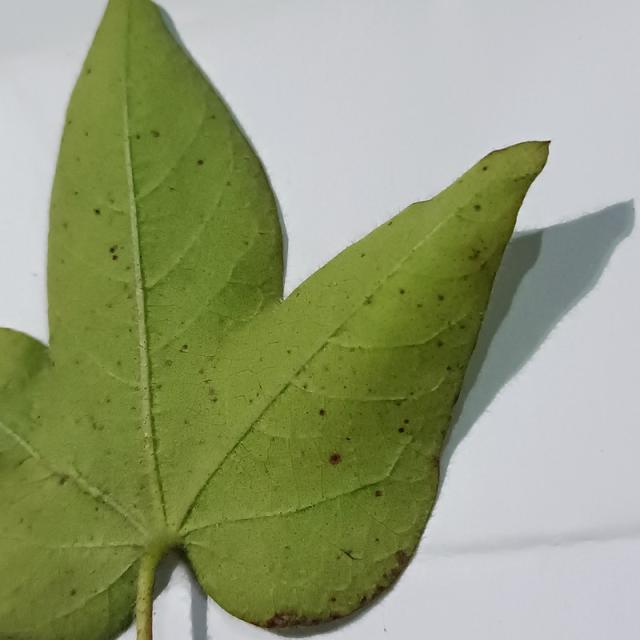Bacterial_Blight: (321, 444, 351, 471), (265, 613, 295, 628), (106, 242, 122, 267), (87, 416, 104, 432), (395, 550, 408, 565), (468, 248, 482, 261), (512, 175, 531, 183), (207, 386, 217, 401), (265, 619, 278, 630), (59, 474, 69, 486), (341, 549, 354, 558), (362, 295, 373, 305), (329, 613, 341, 622), (432, 456, 440, 469), (393, 398, 404, 406), (109, 245, 118, 254), (180, 344, 189, 353), (478, 260, 487, 269), (150, 130, 160, 138), (164, 359, 173, 367), (437, 340, 445, 348), (437, 294, 445, 301), (473, 204, 481, 211), (375, 490, 383, 497), (398, 288, 405, 295), (94, 208, 101, 215), (70, 589, 77, 596), (397, 427, 405, 433), (403, 418, 410, 424), (416, 303, 423, 309), (319, 409, 325, 416), (226, 180, 232, 187), (197, 159, 204, 165), (242, 240, 249, 246), (62, 222, 68, 229), (126, 293, 133, 299), (209, 114, 216, 120), (169, 186, 176, 192), (184, 418, 190, 425), (139, 596, 146, 602), (130, 405, 137, 411), (387, 220, 393, 226), (135, 134, 141, 140), (360, 252, 366, 258), (446, 365, 452, 371), (286, 349, 292, 355), (284, 544, 290, 550), (330, 597, 336, 603), (302, 383, 307, 390), (94, 505, 99, 512), (482, 166, 488, 171), (345, 436, 351, 441), (84, 131, 89, 137), (86, 69, 91, 75), (248, 398, 253, 404), (375, 537, 380, 543), (74, 191, 79, 196), (295, 292, 300, 297)
Cotton: (0, 0, 548, 639)
